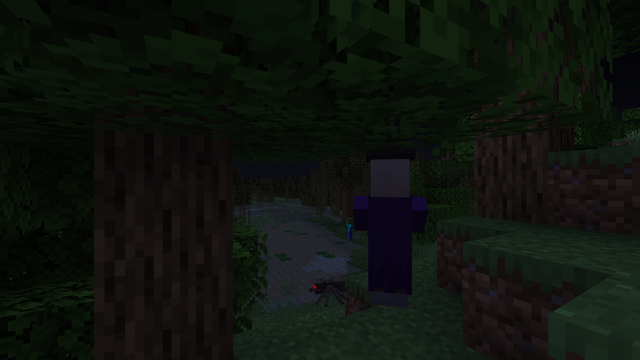araignees: (308, 271, 343, 306)
sorcieres: (356, 151, 422, 317)
zombies: (345, 218, 351, 240)
